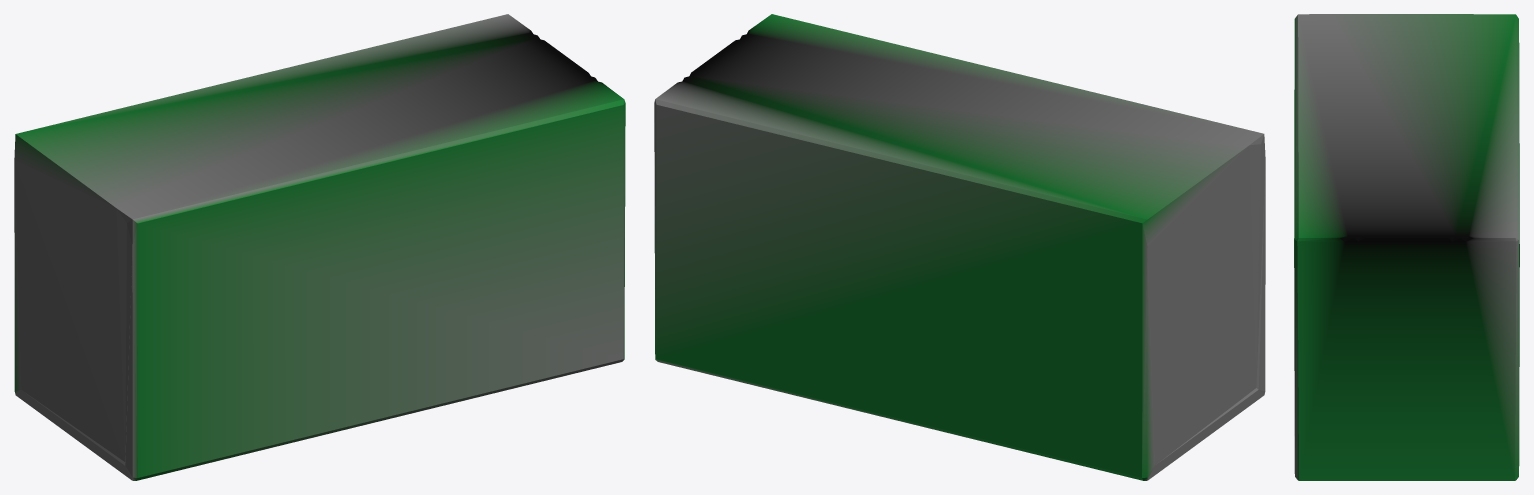
The model's file is Container(1).glb.
3 renders of one model, left to right at view 1: azimuth 30°, elevation 25°; view 2: azimuth 150°, elevation 25°; view 3: azimuth 270°, elevation 25°, orthographic. The views are drawn at different scales.
Parts seen in each view (by area): view 1: Root; view 2: Root; view 3: Root.
Part boxes in pixels (x1=…): Root: x1=14, y1=14, x2=625, y2=480; Root: x1=654, y1=14, x2=1265, y2=480; Root: x1=1294, y1=14, x2=1519, y2=480.
Size of the model in its own units: 3.49 by 1.77 by 1.48.
